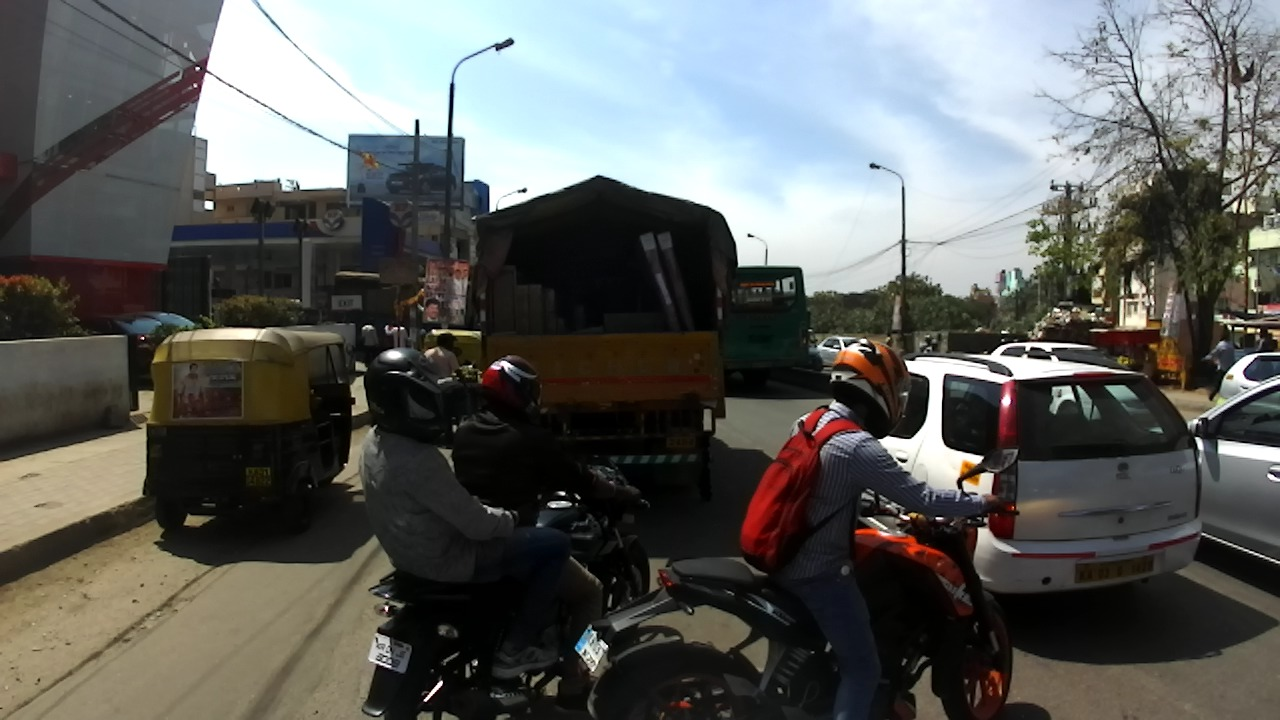autorickshaw: (141, 327, 357, 538), (421, 327, 485, 383)
bus: (721, 262, 809, 392)
car: (858, 350, 1210, 609), (1162, 375, 1279, 569), (73, 311, 170, 386), (988, 341, 1112, 372), (1215, 351, 1279, 407), (129, 311, 198, 356), (814, 335, 859, 368)
motorcycle: (571, 444, 1023, 720), (359, 418, 671, 718)
person: (1201, 329, 1235, 403), (356, 318, 380, 366), (383, 318, 411, 350), (1141, 343, 1161, 387), (384, 319, 398, 352), (416, 323, 430, 354), (1254, 328, 1270, 354), (882, 331, 894, 349), (1267, 332, 1276, 350), (398, 318, 409, 330), (974, 323, 985, 333), (1012, 335, 1021, 343), (1000, 326, 1007, 334), (1004, 333, 1009, 344), (1000, 335, 1005, 346), (1007, 329, 1012, 335)
rider: (739, 338, 1005, 716), (454, 354, 639, 717), (363, 345, 561, 680), (419, 331, 474, 458), (923, 337, 943, 355), (920, 333, 933, 356), (931, 331, 943, 353)
truck: (461, 174, 736, 506)
vehicle fallback: (1087, 327, 1161, 386), (431, 361, 488, 427), (945, 332, 1027, 355), (800, 309, 825, 372)
